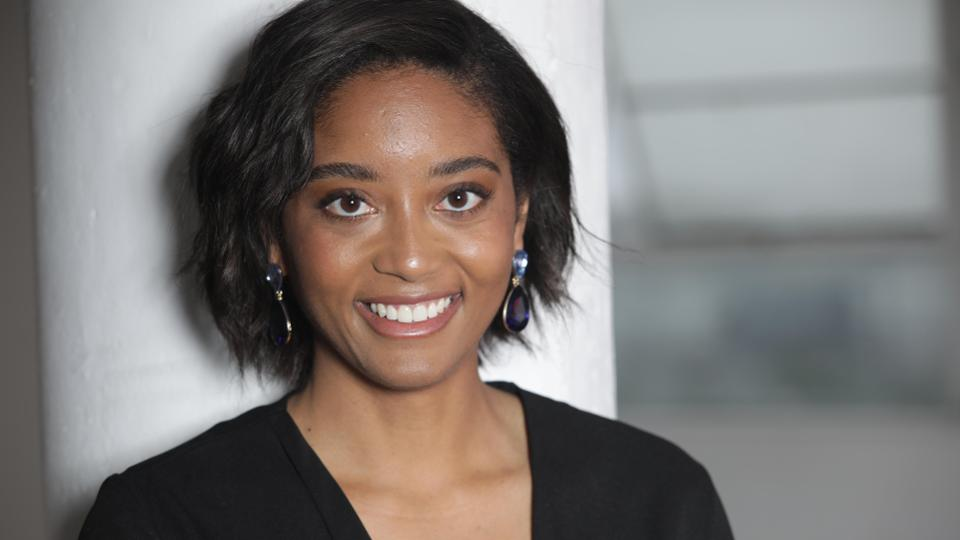bare: (285, 228, 523, 390)
